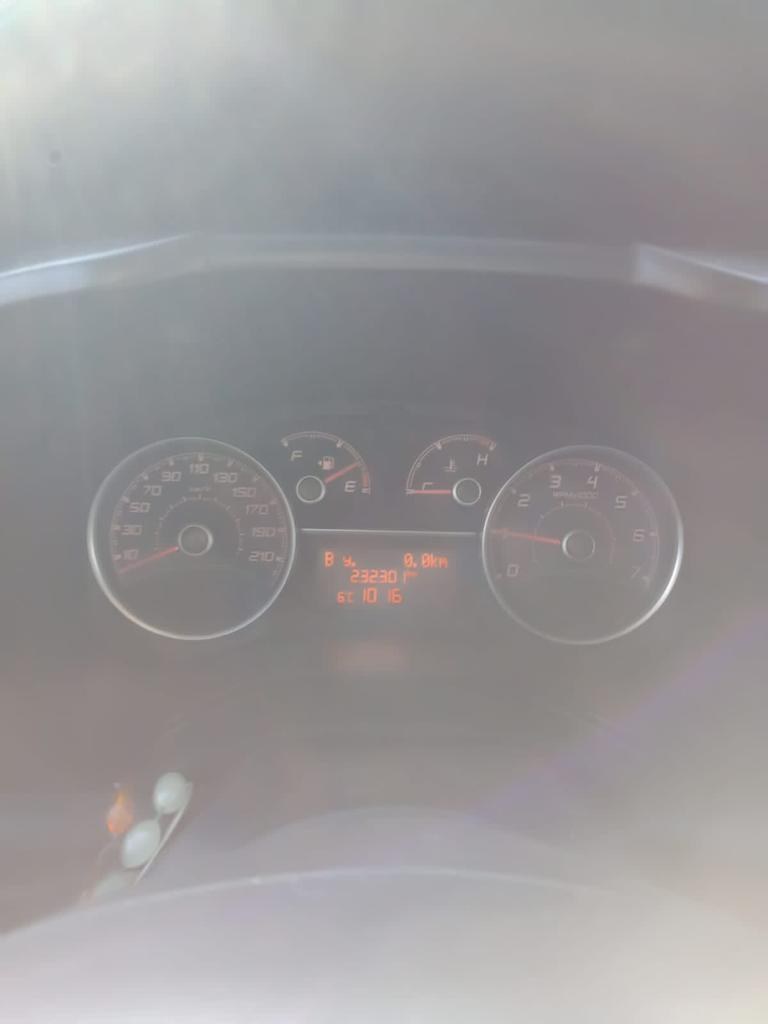,: (412, 560, 417, 570), (351, 560, 358, 567)
0: (366, 587, 377, 604), (420, 551, 429, 568), (388, 568, 397, 583), (404, 552, 412, 567)
1: (387, 586, 391, 606), (362, 587, 366, 604), (402, 570, 406, 583)
2: (350, 568, 359, 583), (369, 568, 377, 583)
3: (360, 568, 368, 583), (379, 568, 386, 584)
6: (392, 587, 402, 604), (336, 590, 344, 604)
X: (324, 551, 334, 567), (430, 551, 438, 569), (438, 555, 447, 568), (342, 554, 351, 566), (347, 591, 354, 603)
odometer: (313, 543, 459, 626)
